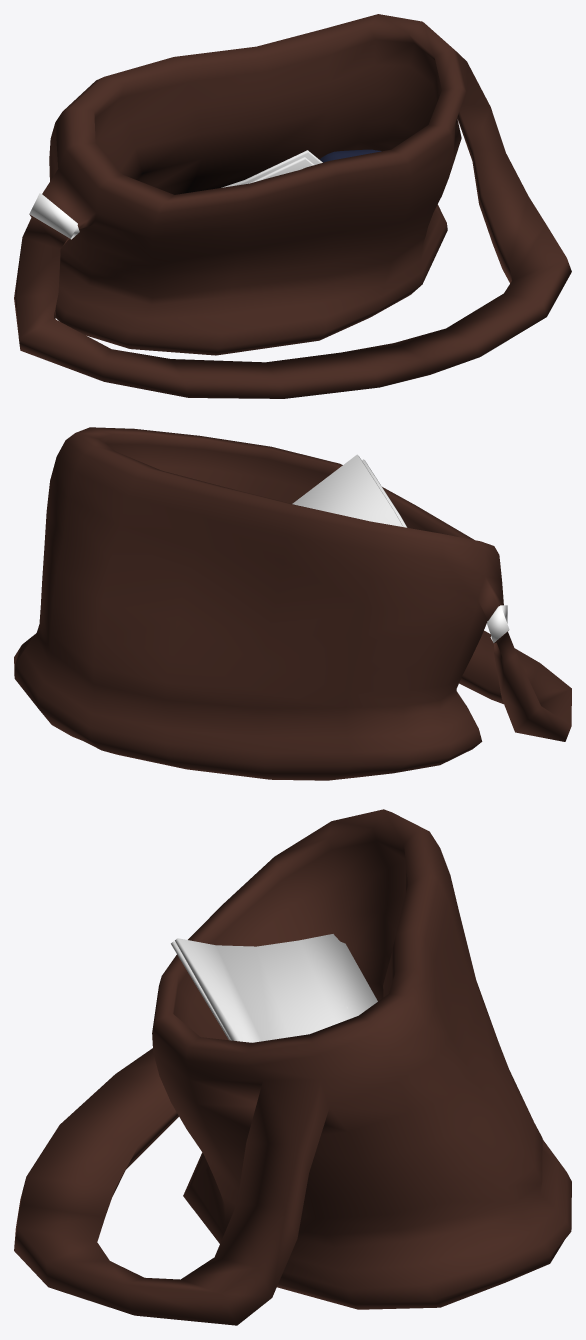
The model's file is BAG.fbx.
3 renders of one model, top to bottom at view 1: azimuth 30°, elevation 25°; view 2: azimuth 150°, elevation 25°; view 3: azimuth 270°, elevation 25°, orthographic. The views are drawn at different scales.
Parts seen in each view (by area): view 1: Cube.001, Cube.004; view 2: Cube.001, Cube.004; view 3: Cube.001, Cube.004.
Part boxes in pixels (bbox=[...]): Cube.001: bbox=[14, 14, 571, 398]; Cube.004: bbox=[221, 150, 322, 187]; Cube.001: bbox=[14, 427, 571, 780]; Cube.004: bbox=[292, 454, 403, 526]; Cube.001: bbox=[14, 809, 571, 1325]; Cube.004: bbox=[175, 934, 377, 1042].
Size of the model in its own units: 514 by 234 by 379.
